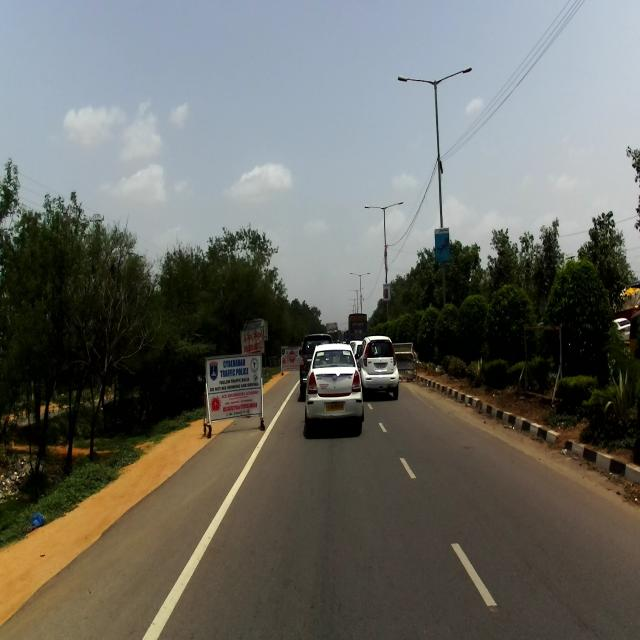car: (304, 342, 365, 434), (355, 334, 400, 399)
